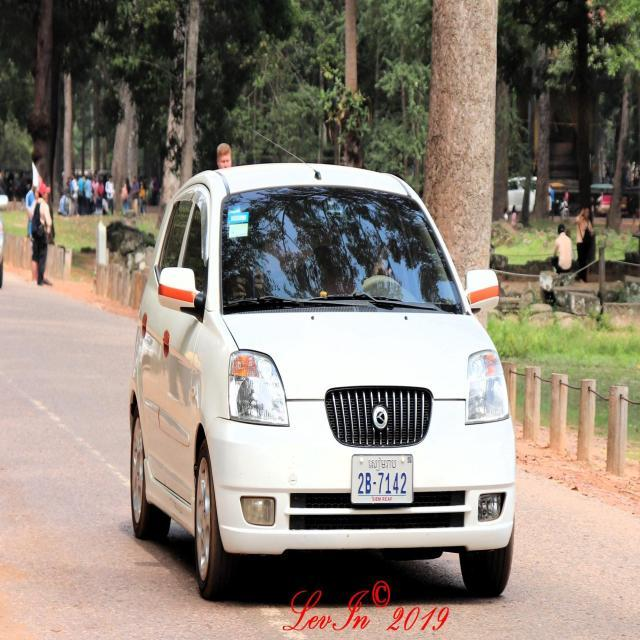Siem_Reap: (368, 457, 398, 472)
